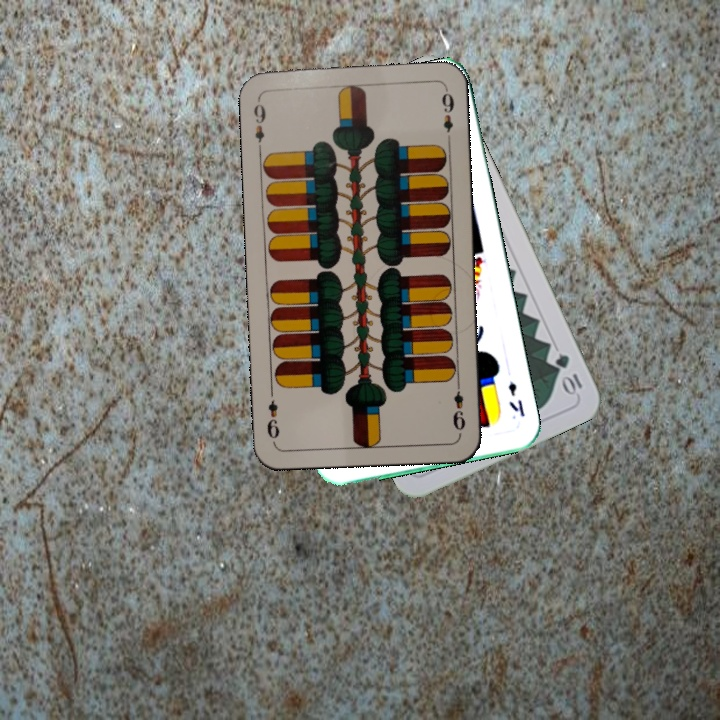E9: (250, 95, 269, 154), (448, 377, 468, 433)
EK: (503, 378, 528, 419)
G10: (551, 349, 585, 398)
